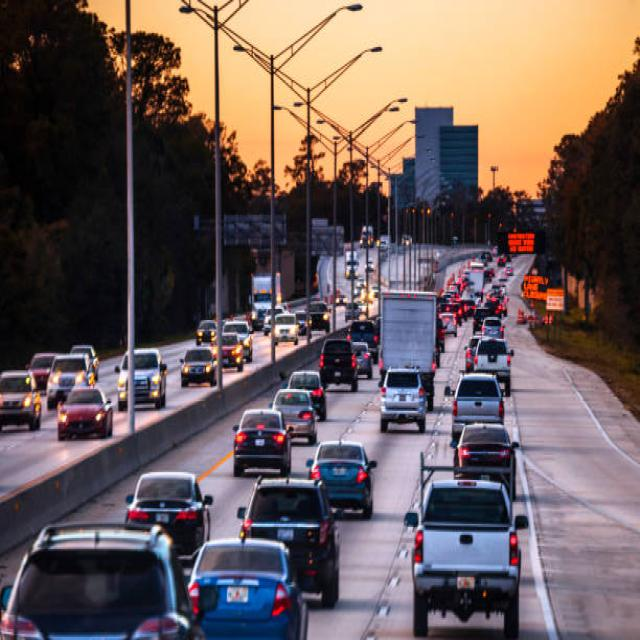Car: (0, 521, 204, 638), (236, 474, 340, 607), (187, 536, 309, 638), (124, 471, 214, 558), (306, 439, 376, 518), (452, 422, 518, 500), (232, 408, 293, 477), (449, 372, 504, 439), (56, 384, 113, 440), (378, 366, 426, 432), (116, 347, 166, 409), (269, 387, 317, 444), (0, 368, 41, 429), (286, 368, 326, 421), (179, 347, 216, 386), (26, 352, 57, 391)
Pickup: (404, 477, 528, 638)
Truck: (378, 290, 437, 410)
